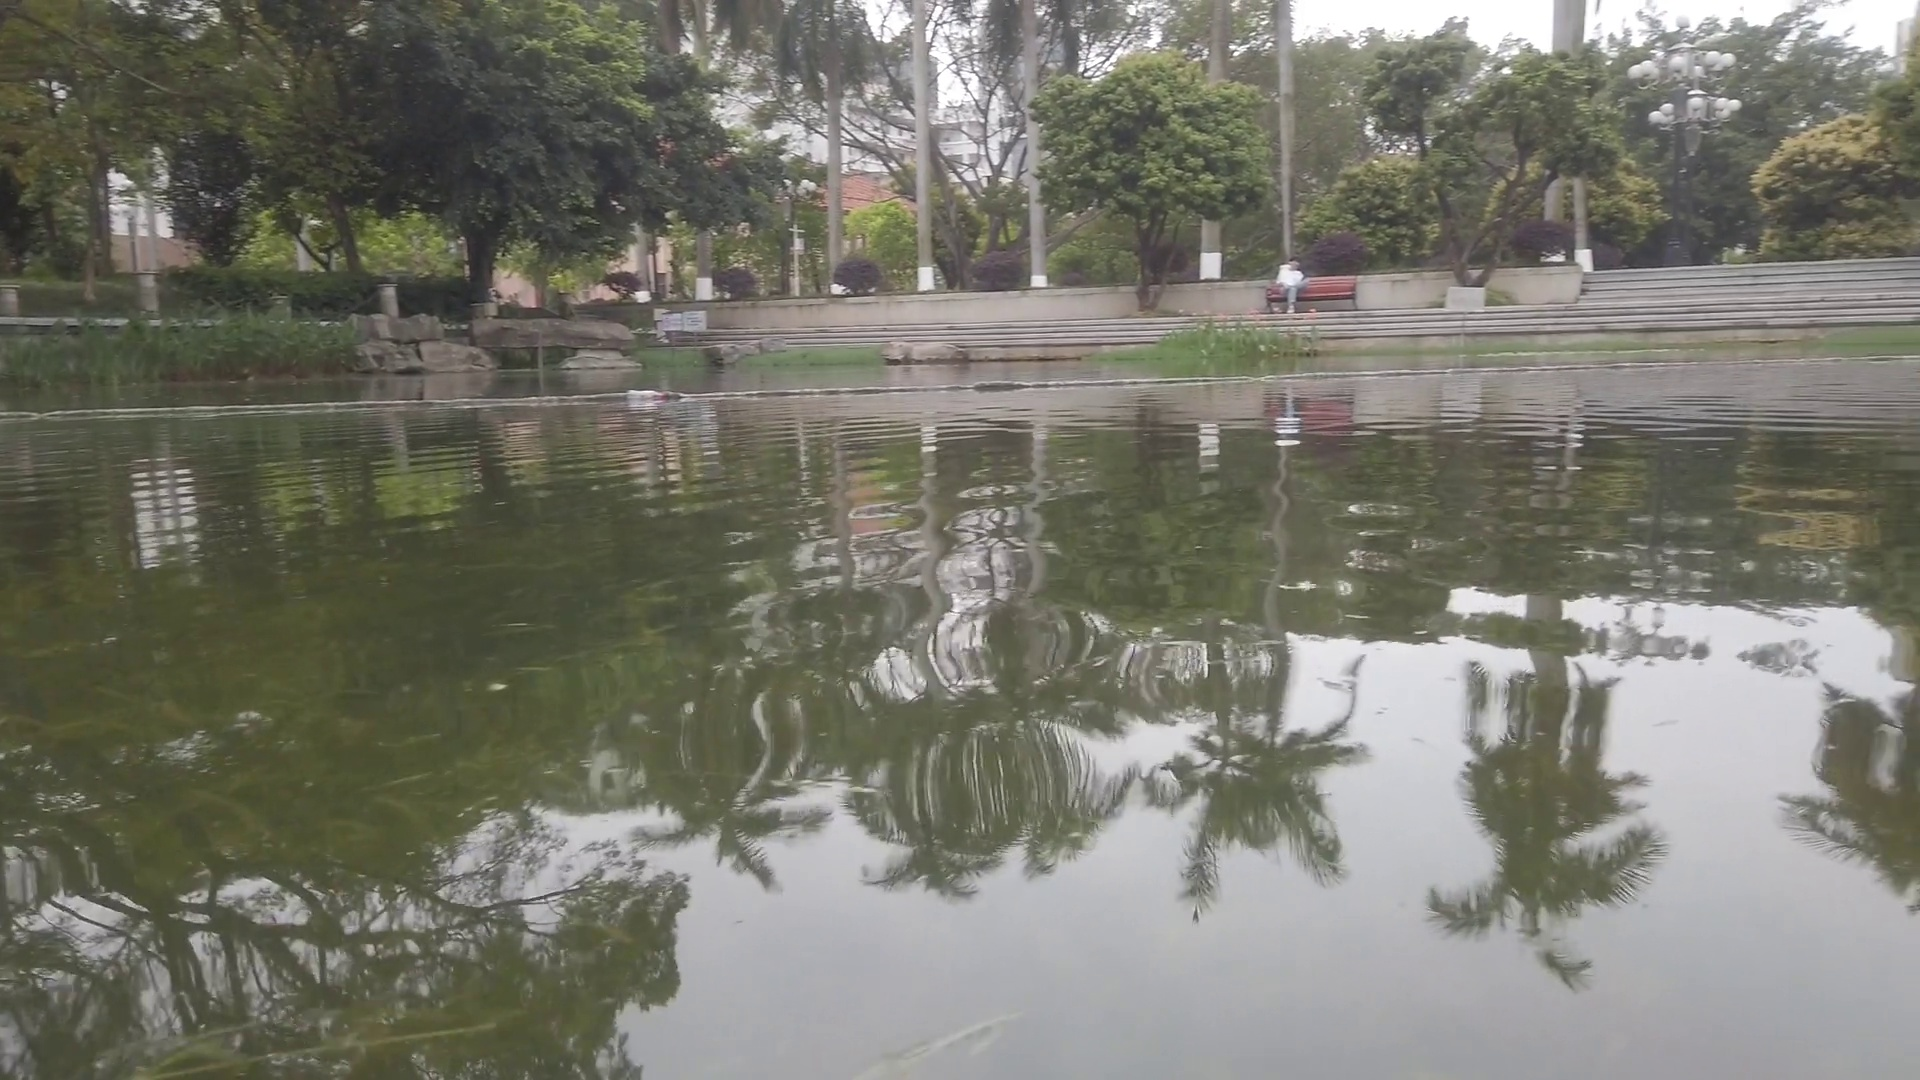bottle: (626, 388, 666, 404)
